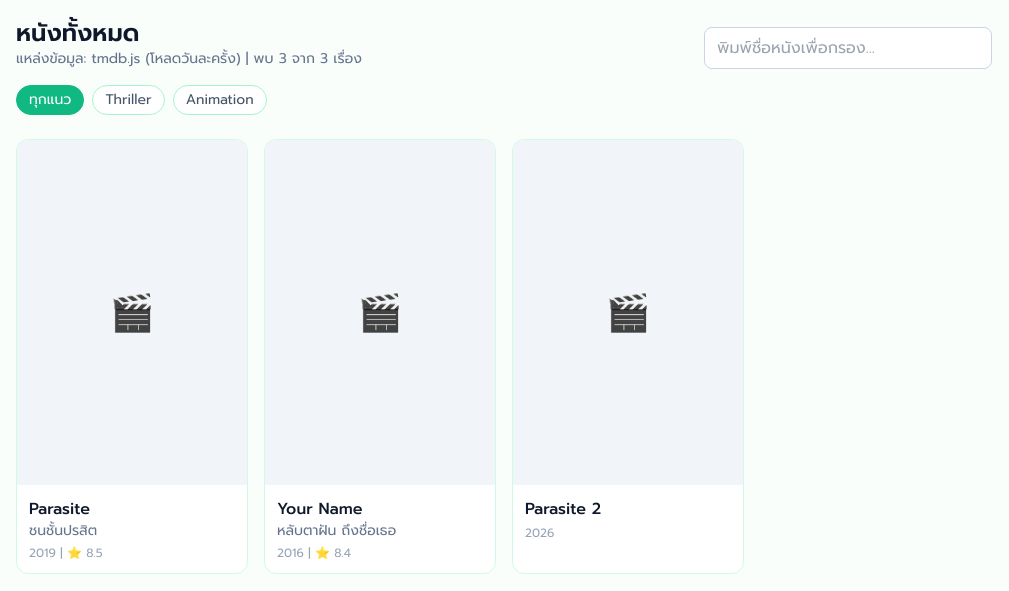
it: กดเลือกแนว ต้องเหลือเฉพาะแนวนั้น
Expected: the heading "Parasite" is shown, [29,497,90,521]
What coordinates should you click on to do the following:
click the button "Animation"
I would click on:
 (220, 100)
Its box is [173,85,267,115].
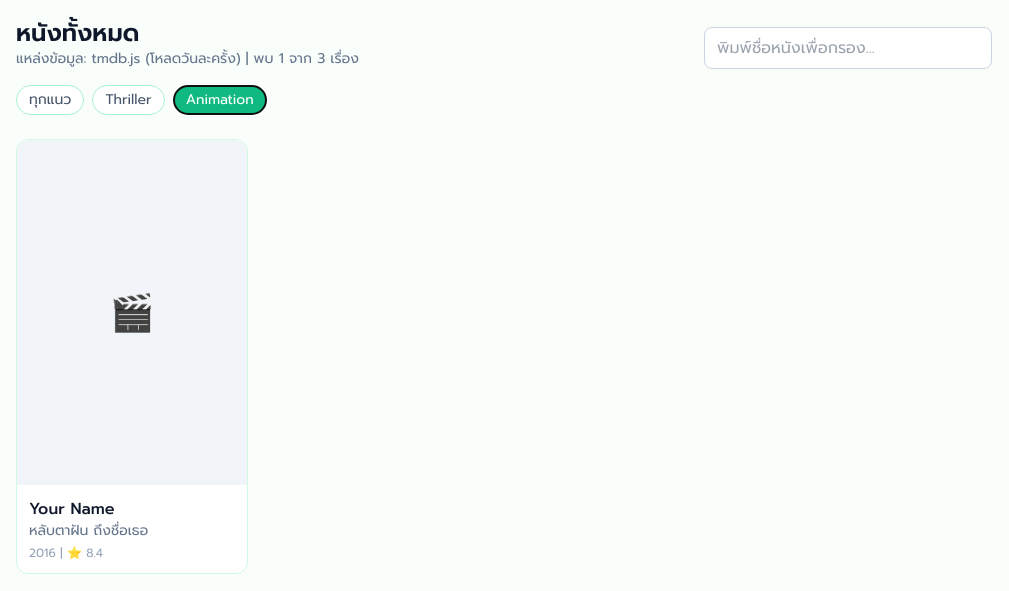
Expected: the number of links is 1, [16,139,248,574]
Expected: the link "Parasite" is gone
